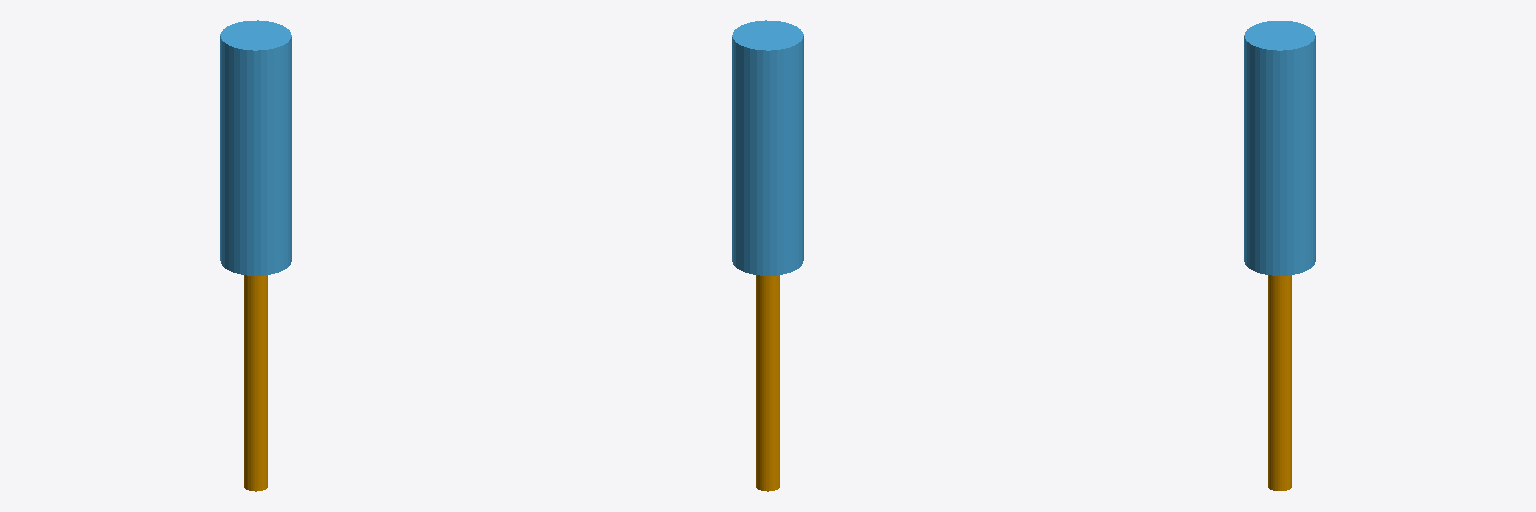
robot.urdf — screwdriver_on_the_table:
<?xml version="1.0" ?>
<!-- this is the one without any virtual joints and links -->
<robot name="screwdriver_on_the_table">
<link name="screwdriver_stick">
    <inertial>
      <mass value="0.05"/>
      <!-- <friction value="1.0"/> -->
      <inertia ixx="0.000041979" ixy="0.0" ixz="0.0" iyy="0.000041979" iyz="0.0" izz="0.000000625"/>
    </inertial>
    <visual>
        <origin rpy="0 0 0" xyz="0 0 0.05"/>
        <geometry>
            <cylinder radius="0.005" length="0.1"/>
        </geometry>
        <!-- <material name="White">
	 	    <color rgba="0.9 0.9 0.9 0.5"/>
        </material> -->
    </visual>
    <collision>
        <origin rpy="0 0 0" xyz="0 0 0.05"/>
        <geometry>
            <cylinder radius="0.005" length="0.1"/>
        </geometry>
    </collision>
</link>

<gazebo reference="screwdriver_body">
    <mu1>0.354989</mu1>
    <mu2>0.573478</mu2>
    <!-- Isaac Sim maps mu1/mu2 to PhysX static/dynamic friction during URDF→USD import -->
</gazebo>

<joint name="screwdriver_stick_body_joint" type="fixed">
    <parent link="screwdriver_stick"/>
    <child link="screwdriver_body"/>
    <origin rpy="0 0 0" xyz="0 0 0.1"/> 
    <axis xyz="0 0 1"/>
</joint>

<link name="screwdriver_body">
    <inertial>
      <mass value="0.155686"/>
      <inertia ixx="0.000137743" ixy="0.0" ixz="0.0" iyy="0.000137743" iyz="0.0" izz="0.000016009"/>
    </inertial>
    <visual>
        <origin rpy="0 0 0" xyz="0 0 0.05"/>
        <geometry>
            <cylinder radius="0.014341" length="0.1"/>
        </geometry>
        <!-- <material name="Red1">
	 	    <color rgba="0.9 0. 0. 0.5"/>
        </material> -->
    </visual>
    <collision>
        <origin rpy="0 0 0" xyz="0 0 0.05"/>
        <geometry>
            <cylinder radius="0.014341" length="0.1"/>
        </geometry>
    </collision>
</link>

<!-- <joint name="screwdriver_body_cap_joint" type="revolute">
    <parent link="screwdriver_body"/>
    <child link="screwdriver_cap"/>
    <origin rpy="0 0 0" xyz="0 0 0.1"/> 
    <axis xyz="0 0 1"/>
</joint>

<link name="screwdriver_cap">
    <inertial>
      <mass value="0.005"/>
      <inertia ixx="0.00001" ixy="0.0" ixz="0.0" iyy="0.000005" iyz="0.0" izz="0.000005"/>
    </inertial>
    <visual>
        <origin rpy="0 0 0" xyz="0 0 0.0006"/>
        <geometry>
            <cylinder radius="0.02" length="0.001"/>
        </geometry>
        <material name="Yellow">
	 	    <color rgba="0.9 0.9 0. 1.0"/>
        </material>
    </visual>
    <collision>
        <origin rpy="0 0 0" xyz="0 0 0.0005"/>
        <geometry>
            <cylinder radius="0.02" length="0.001"/>
        </geometry>
    </collision>
</link> -->

</robot>

--- Facts derived from the render (not from the file) ---
Views: 3 orthographic renders of the robot side by side, from view 1: azimuth 30°, elevation 25°; view 2: azimuth 150°, elevation 25°; view 3: azimuth 270°, elevation 25°.
Model screwdriver_on_the_table with 2 links and 1 joints (1 fixed), rooted at screwdriver_stick, posed all joints at 0.
Links seen in each view (by area): view 1: screwdriver_body, screwdriver_stick; view 2: screwdriver_body, screwdriver_stick; view 3: screwdriver_body, screwdriver_stick.
Boxes of the visible links, x1,y1,x2,y2 form: screwdriver_body: [220, 20, 291, 275]; screwdriver_stick: [244, 275, 267, 491]; screwdriver_body: [732, 20, 803, 275]; screwdriver_stick: [756, 275, 779, 491]; screwdriver_body: [1244, 21, 1315, 275]; screwdriver_stick: [1268, 275, 1291, 490].
Bounding box of the posed robot: 0.0287 × 0.0287 × 0.2 m (x, y, z).
Geometry: primitives only (box / cylinder / sphere), no mesh files.
